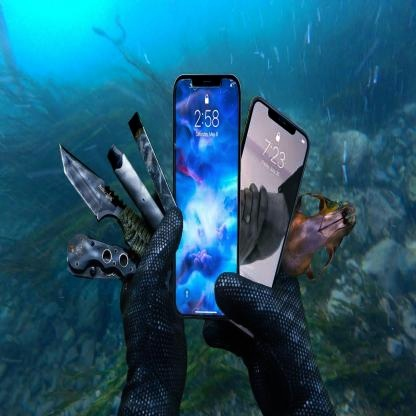cellphone: (209, 93, 311, 332), (172, 72, 242, 316)
misc: (58, 110, 181, 311)
